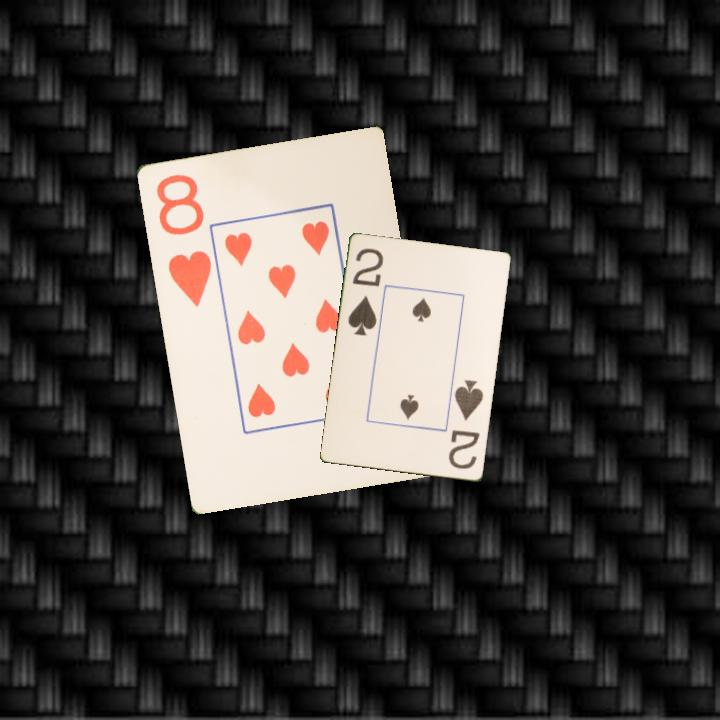2s: (345, 245, 387, 339), (445, 377, 486, 473)
8h: (152, 170, 214, 310)
